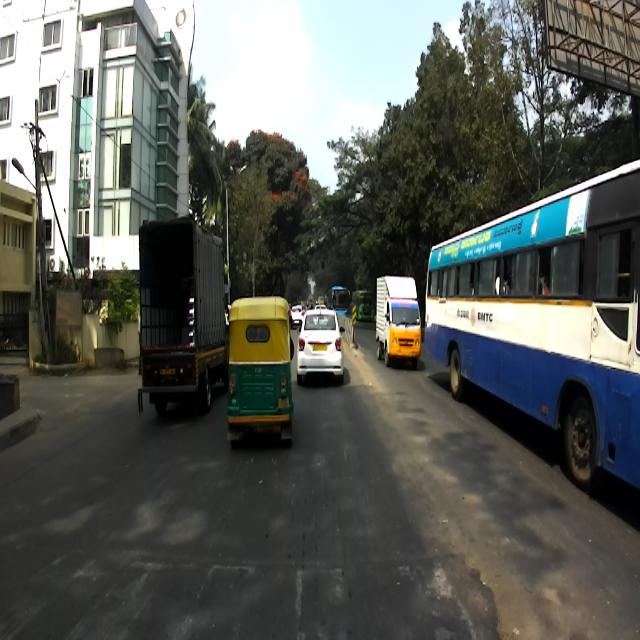auto ahead at: (228, 303, 292, 434)
car ahead at: (300, 308, 347, 381)
truck ahead at: (134, 214, 225, 414)
